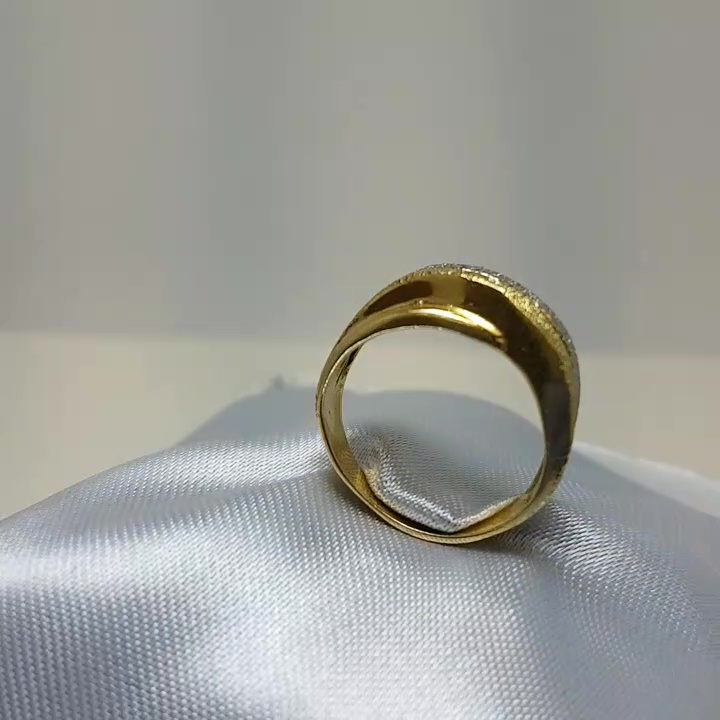Ring 5: (287, 239, 627, 559)
